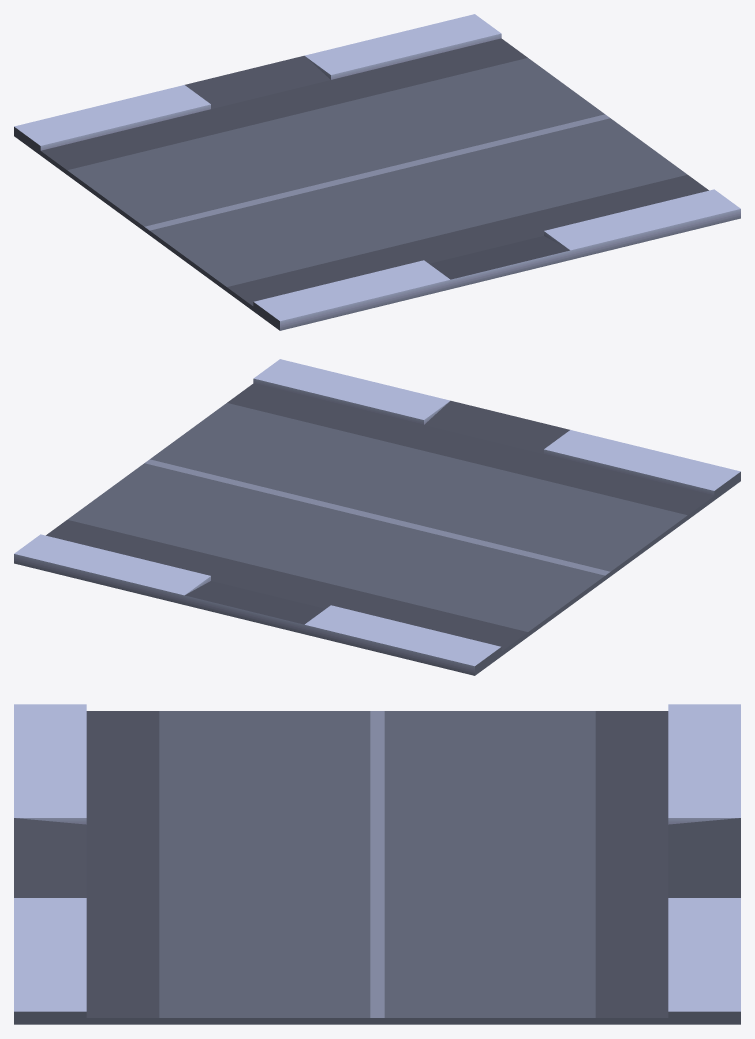
File: road-driveway-double.glb
The picture shows the model from 3 angles, top to bottom: view 1: azimuth 30°, elevation 25°; view 2: azimuth 150°, elevation 25°; view 3: azimuth 270°, elevation 25°; orthographic projection. The views are drawn at different scales.
Parts seen in each view (by area): view 1: road-driveway-double; view 2: road-driveway-double; view 3: road-driveway-double.
Part boxes in pixels (x1,y1,x2,y2): road-driveway-double: [14, 14, 740, 330]; road-driveway-double: [14, 359, 740, 675]; road-driveway-double: [14, 704, 740, 1024].
Bounding box in the file's own units: 1 × 0.02 × 1.
1 material, 1 textured.
